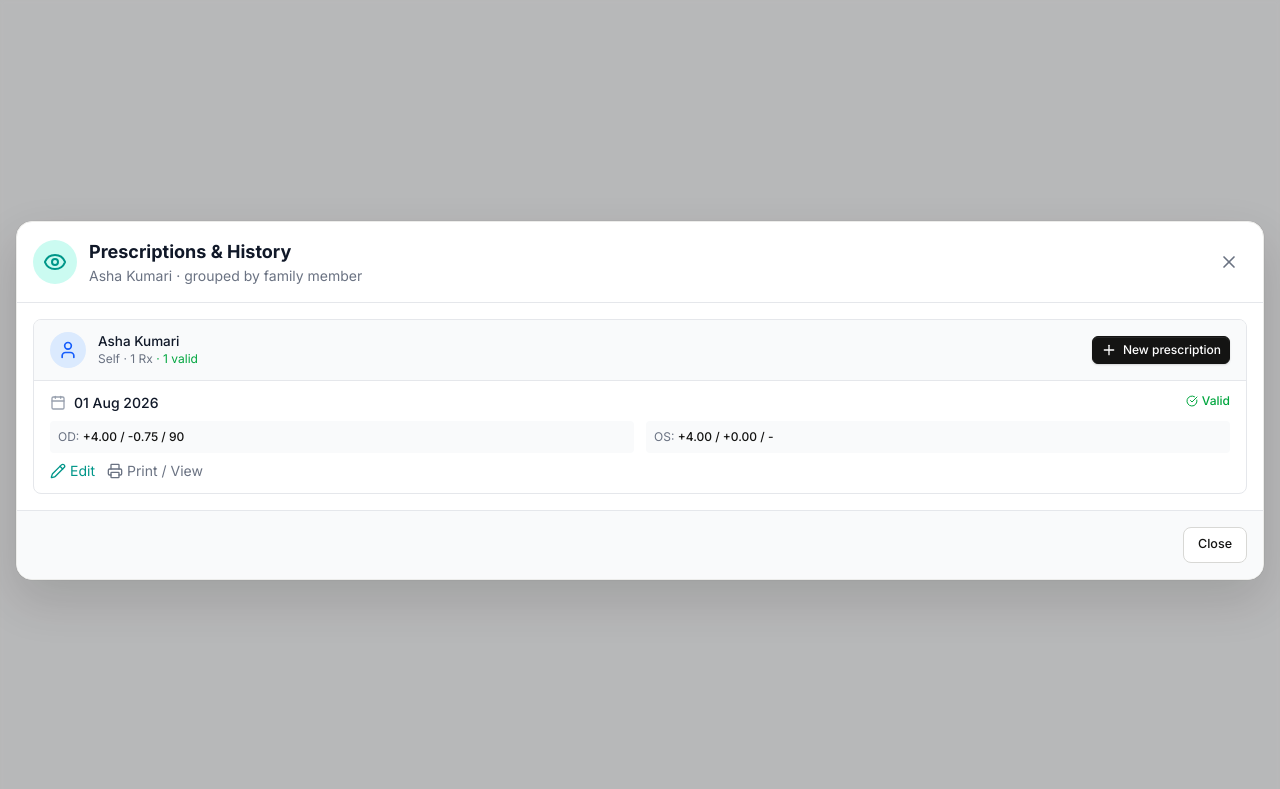
Scenario: editing a stored prescription › shows the stored unsigned "4" as +4.00 in the box
The width and height of the screenshot is (1280, 789).
Check: the text "Asha Kumari" is shown, box [98,333,180,349]
Click the button "Edit": (72, 470) [50,460,95,480]
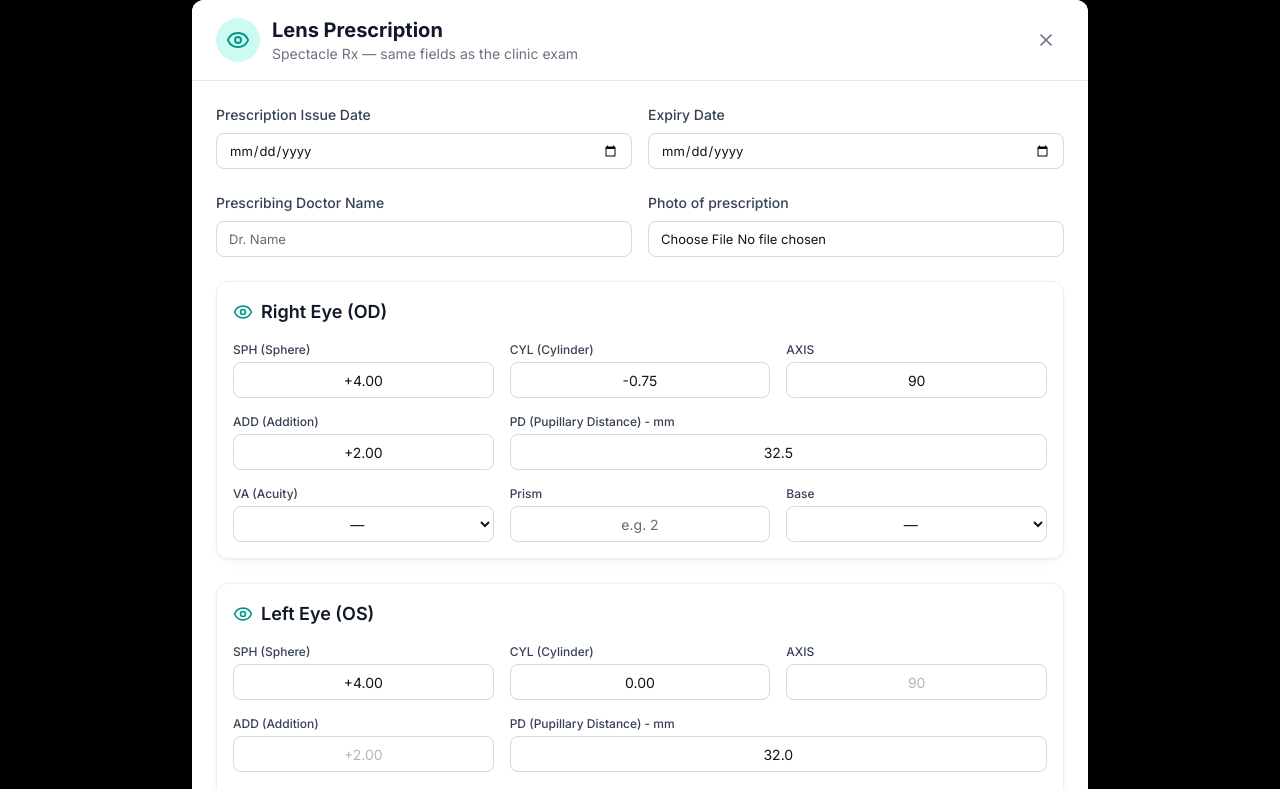
Check: the field named "Right eye sphere" holds "+4.00", box [233,362,494,398]
